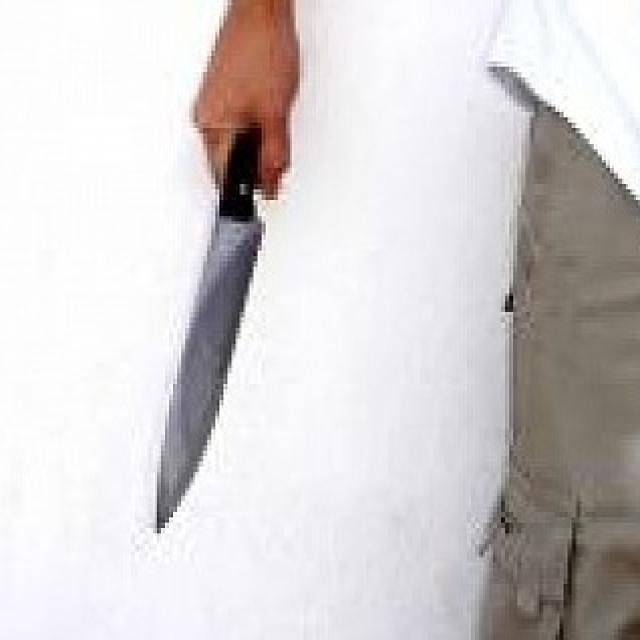knife: (152, 134, 275, 546)
